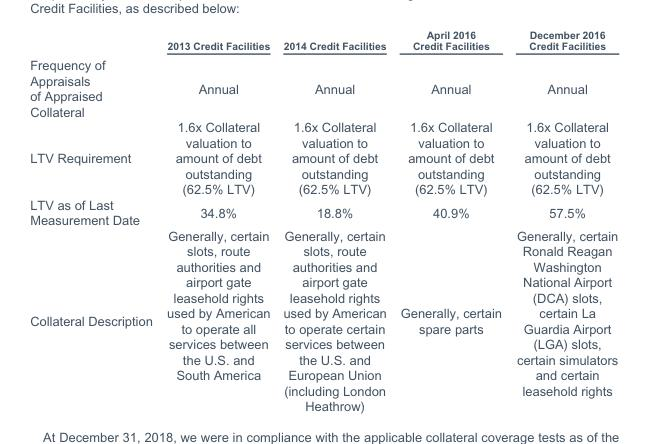table: (29, 28, 617, 413)
table column: (29, 28, 158, 413), (158, 28, 275, 413), (275, 28, 392, 413), (392, 28, 508, 413), (508, 28, 617, 413)
table column header: (29, 28, 617, 196)
table row: (29, 227, 617, 413), (29, 28, 617, 196), (29, 196, 617, 227)
